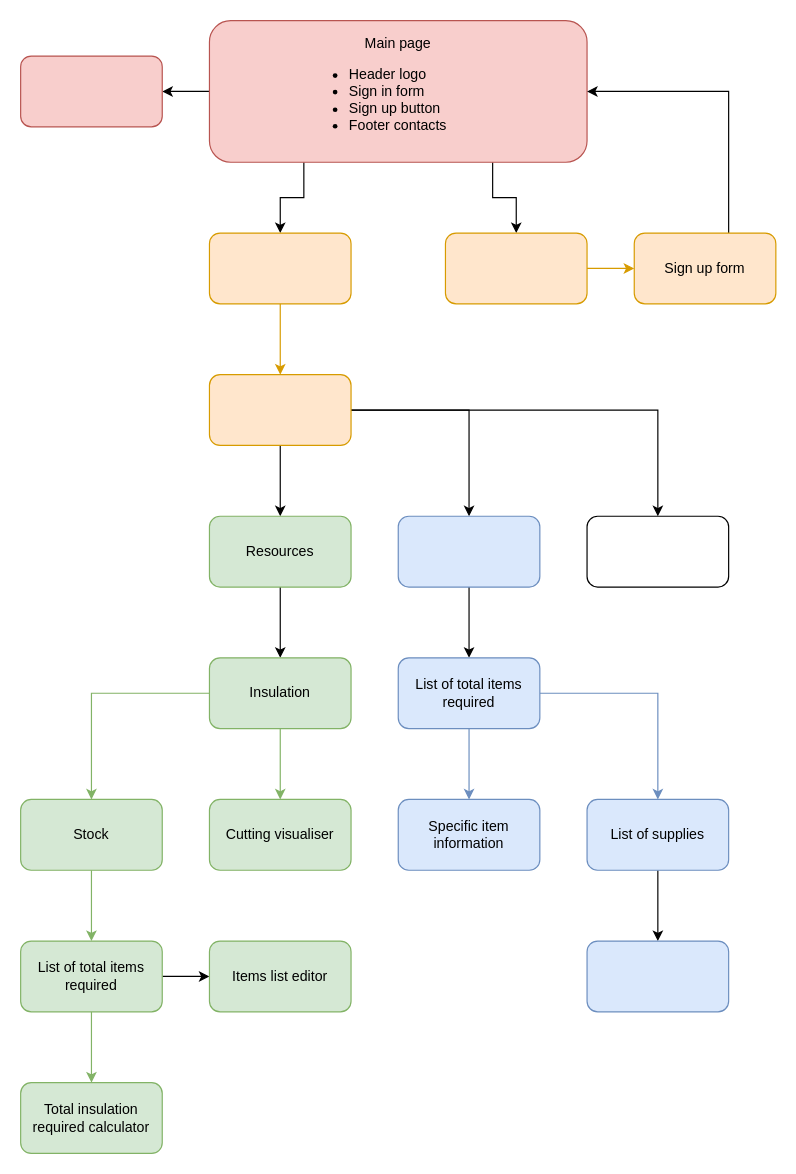
Image size: 796x1174. Some labels were removed from this diagram. Each missing label, with the centre of its shape:
"Bug tracker" goes at (x=90, y=91).
"Metal" goes at (x=468, y=551).
"Navigation menu" goes at (x=279, y=409).
"Sign up" goes at (x=515, y=268).
"Succesful login" goes at (x=279, y=268).
"Total metal items required calculator" goes at (x=657, y=976).
